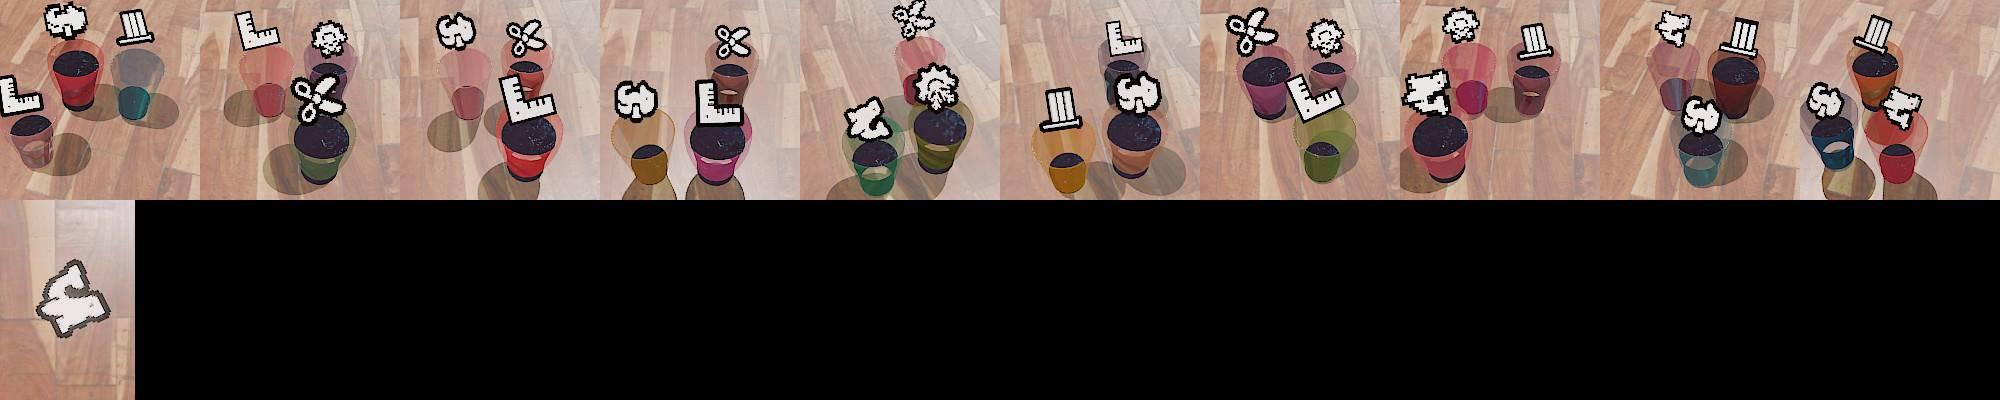icon: (34, 260, 112, 340), (1286, 70, 1346, 122), (499, 71, 556, 125), (290, 71, 348, 121), (1224, 6, 1277, 59), (909, 62, 960, 112), (1403, 68, 1453, 118), (694, 78, 744, 127), (1112, 68, 1162, 116), (843, 94, 893, 140), (233, 9, 282, 52), (1038, 87, 1083, 132), (614, 78, 659, 122), (0, 73, 45, 118), (1879, 87, 1922, 131), (42, 1, 89, 41), (892, 0, 936, 41), (1680, 94, 1722, 135), (1305, 17, 1346, 59), (505, 19, 546, 60), (435, 11, 477, 51), (1105, 19, 1145, 59), (116, 8, 157, 47), (1722, 15, 1760, 57), (1855, 15, 1894, 55), (1441, 5, 1481, 45), (309, 19, 348, 59), (1805, 82, 1844, 120), (1517, 22, 1555, 61), (713, 23, 754, 60), (1656, 9, 1693, 48)
